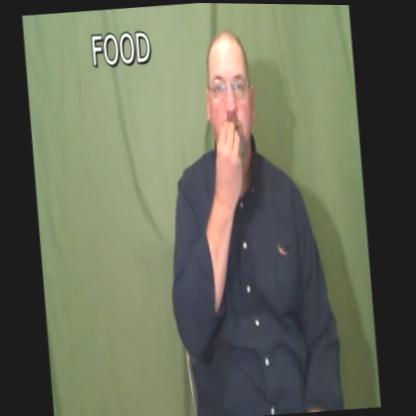Food: (195, 21, 270, 204)
